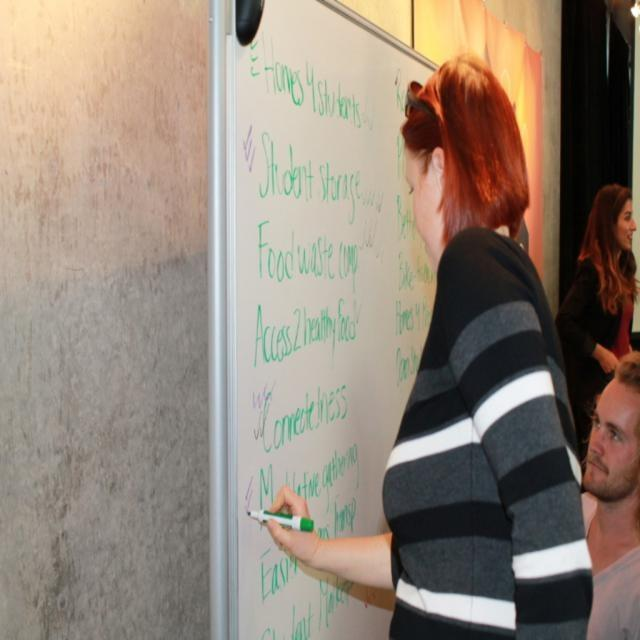Whiteboard: (209, 0, 437, 639)
